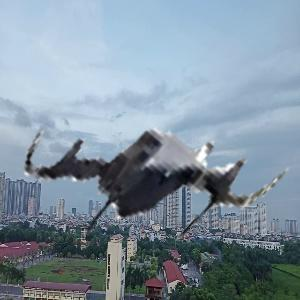drone: (25, 64, 259, 298)
